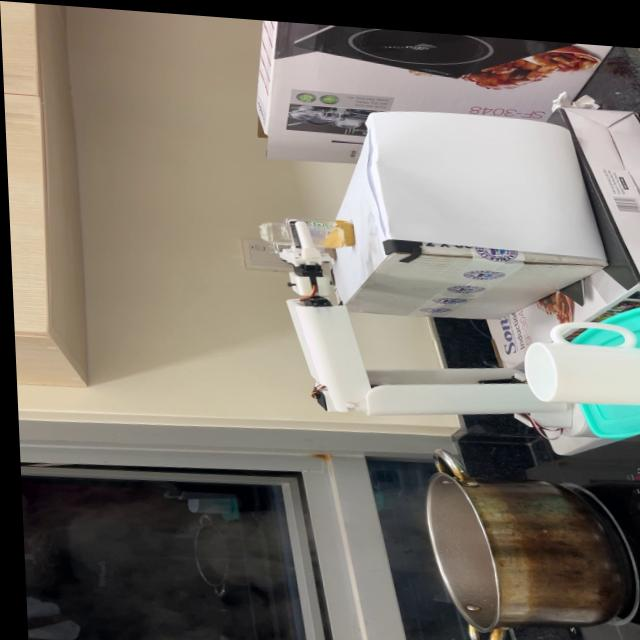cooking_pot: (418, 442, 625, 640)
curry_powder: (336, 211, 360, 242)
garlic_powder: (318, 223, 341, 244)
